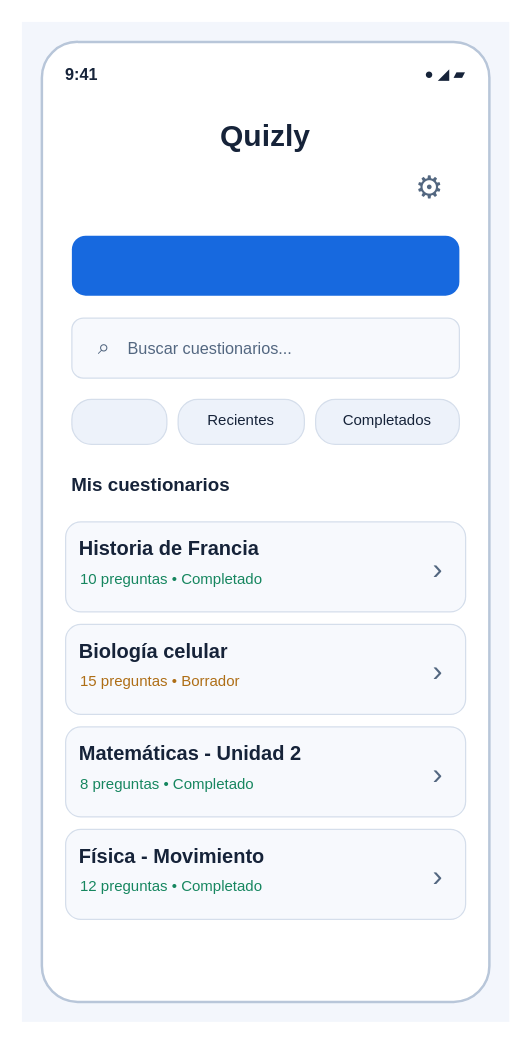
The diagram is 530 pixels wide and 1043 high, and some of its shapes have lost their labels. The box of each missing label's shape, as (x1, y1, x2, y2) in pixels:
Todos: (71, 398, 167, 444)
＋ Nuevo cuestionario: (71, 235, 459, 295)
